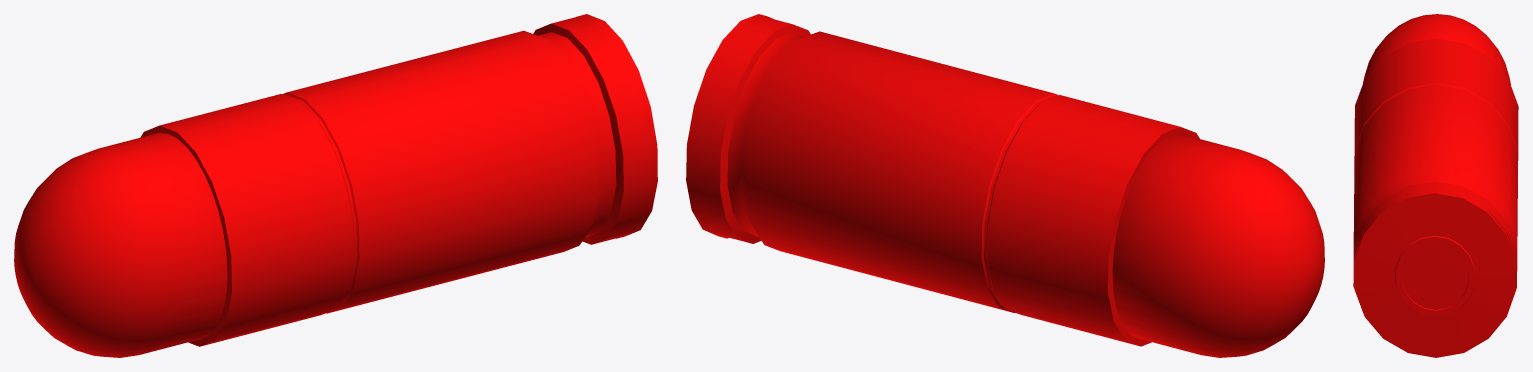
The model's file is m1911Roundfbx.fbx.
3 renders of one model, left to right at view 1: azimuth 30°, elevation 25°; view 2: azimuth 150°, elevation 25°; view 3: azimuth 270°, elevation 25°, orthographic. The views are drawn at different scales.
Parts seen in each view (by area): view 1: Mag Casing, Bullet; view 2: Mag Casing, Bullet; view 3: Mag Casing, Bullet.
Part boxes in pixels (<box>): Mag Casing: <box>140,14,657,346</box>; Bullet: <box>14,132,227,357</box>; Mag Casing: <box>686,14,1199,346</box>; Bullet: <box>1112,134,1324,357</box>; Mag Casing: <box>1353,38,1518,357</box>; Bullet: <box>1363,14,1510,84</box>.
Size of the model in its own units: 5.58 by 1.98 by 1.76.
